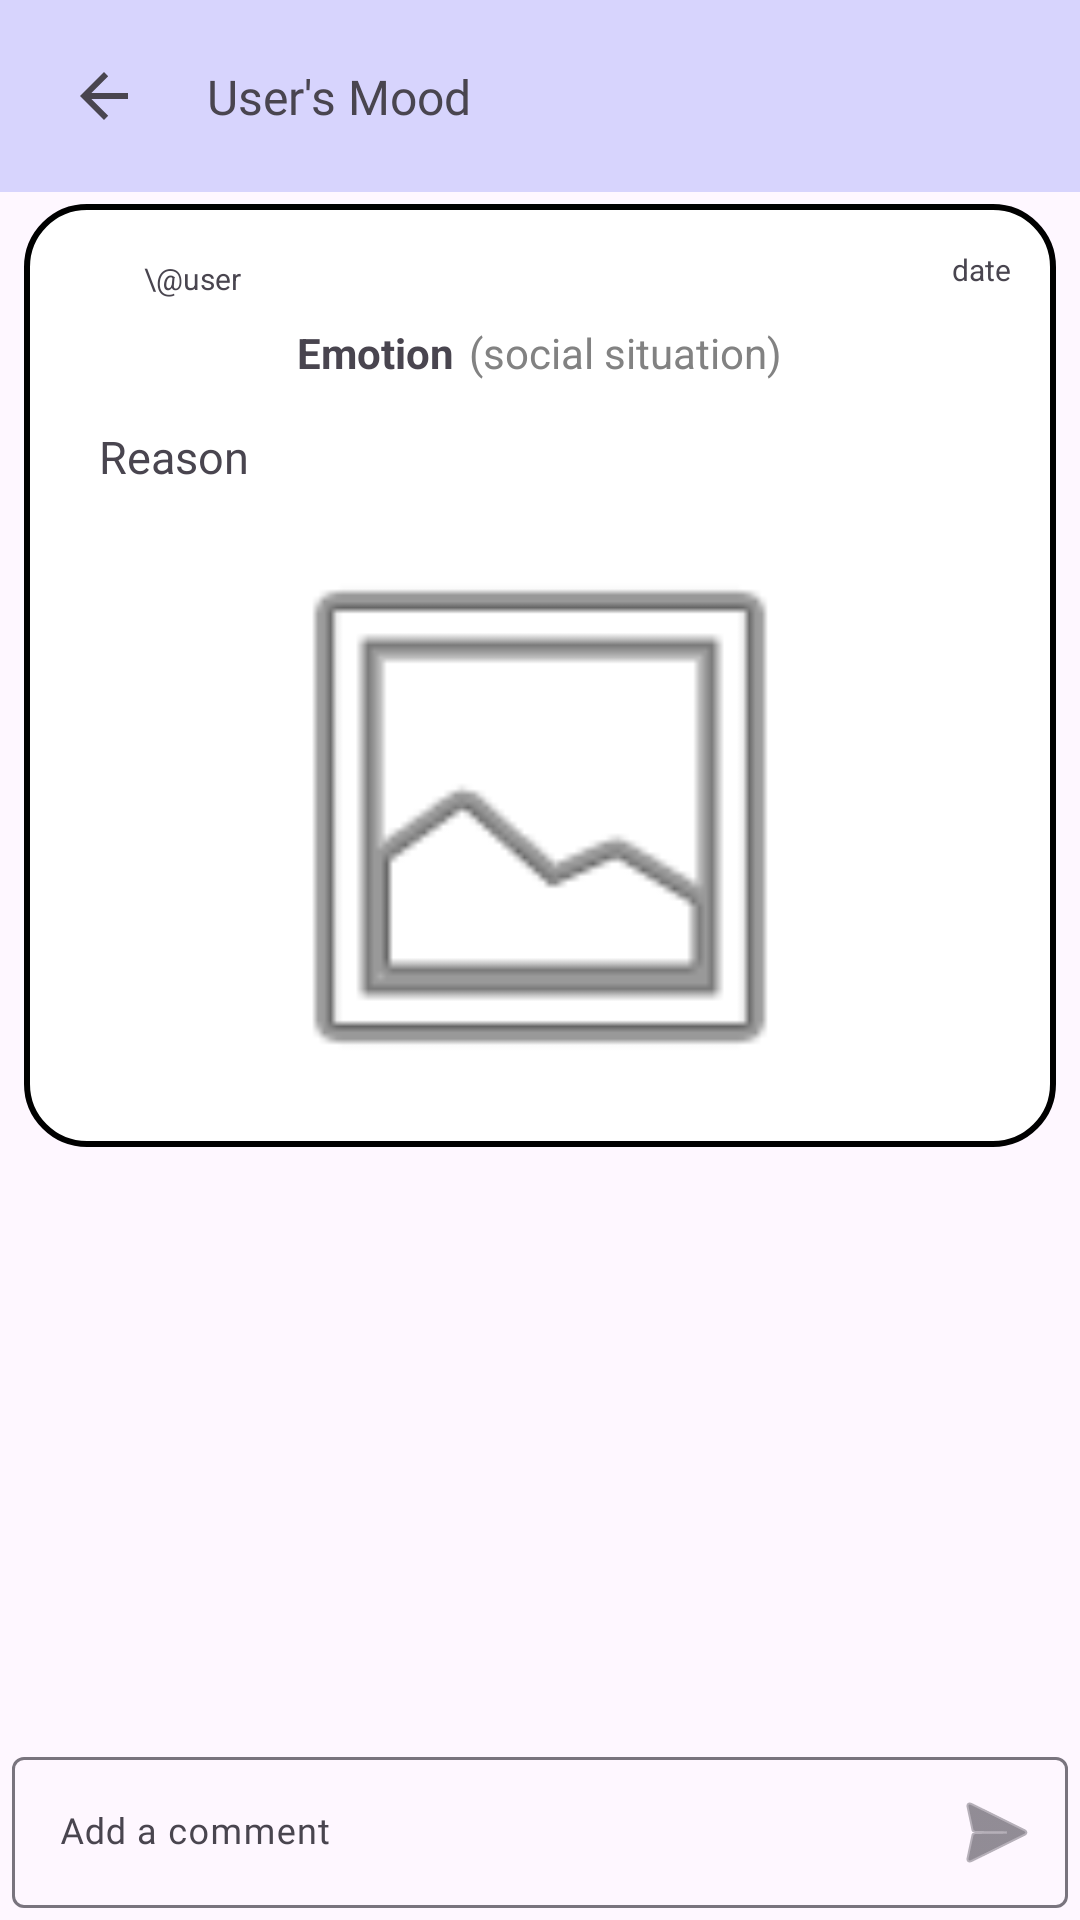

Screen size 1080×1920. Icon name, then its center in pixels as [x,y]:
Go to previous page: [104,96]
